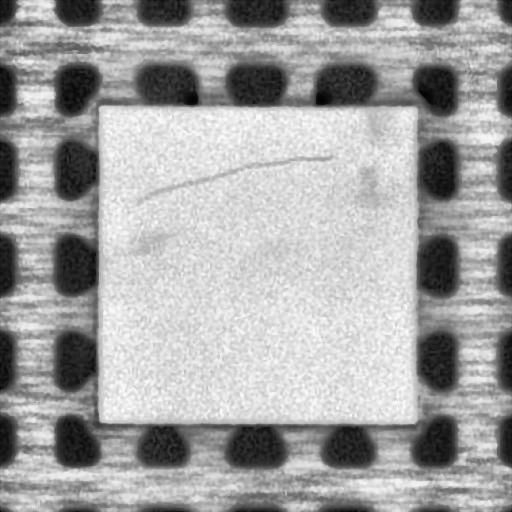DIE_CRACK: (130, 150, 337, 203)
